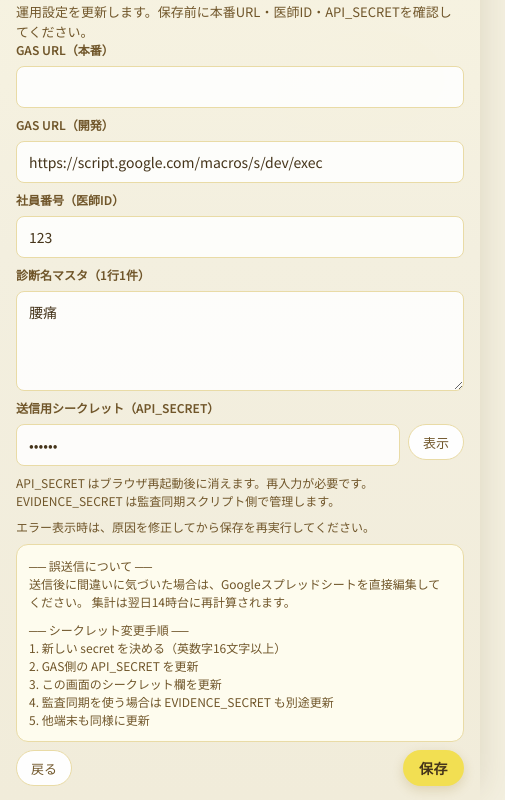
SettingsScreen › 本番URLが空の場合は保存しない
(page scrolled)
What coordinates should you click on to do the following:
click the button "保存"
I would click on:
 (433, 768)
Its box is [403, 750, 464, 786].
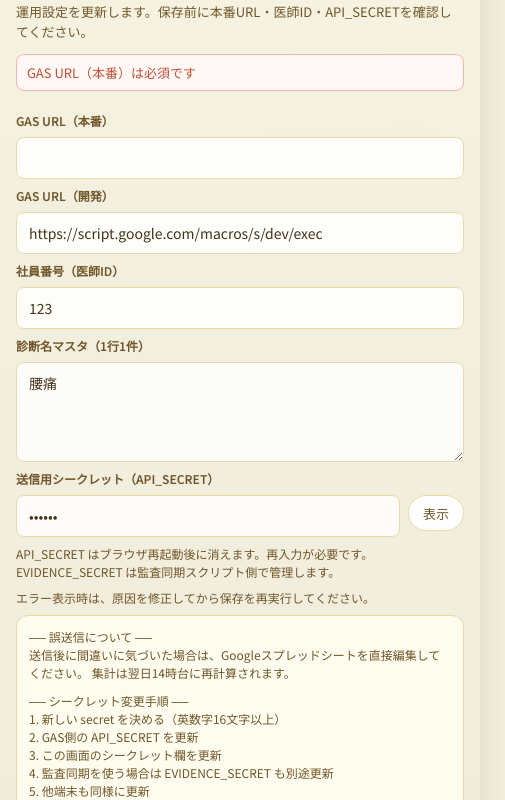
expect the text "GAS URL（本番）は必須です" is shown: met, box [16, 54, 464, 91]
